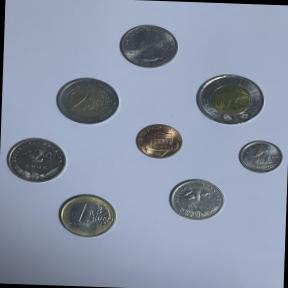1 Euro: (52, 190, 120, 240)
2 Euro: (51, 74, 124, 128)
Canda-10cent-: (234, 137, 286, 177)
Canda-2Dollar-: (189, 70, 269, 130)
Croatia-2Kune-: (1, 132, 69, 186)
US-1cent-: (130, 120, 187, 162)
US-25cent-: (116, 22, 181, 70)
